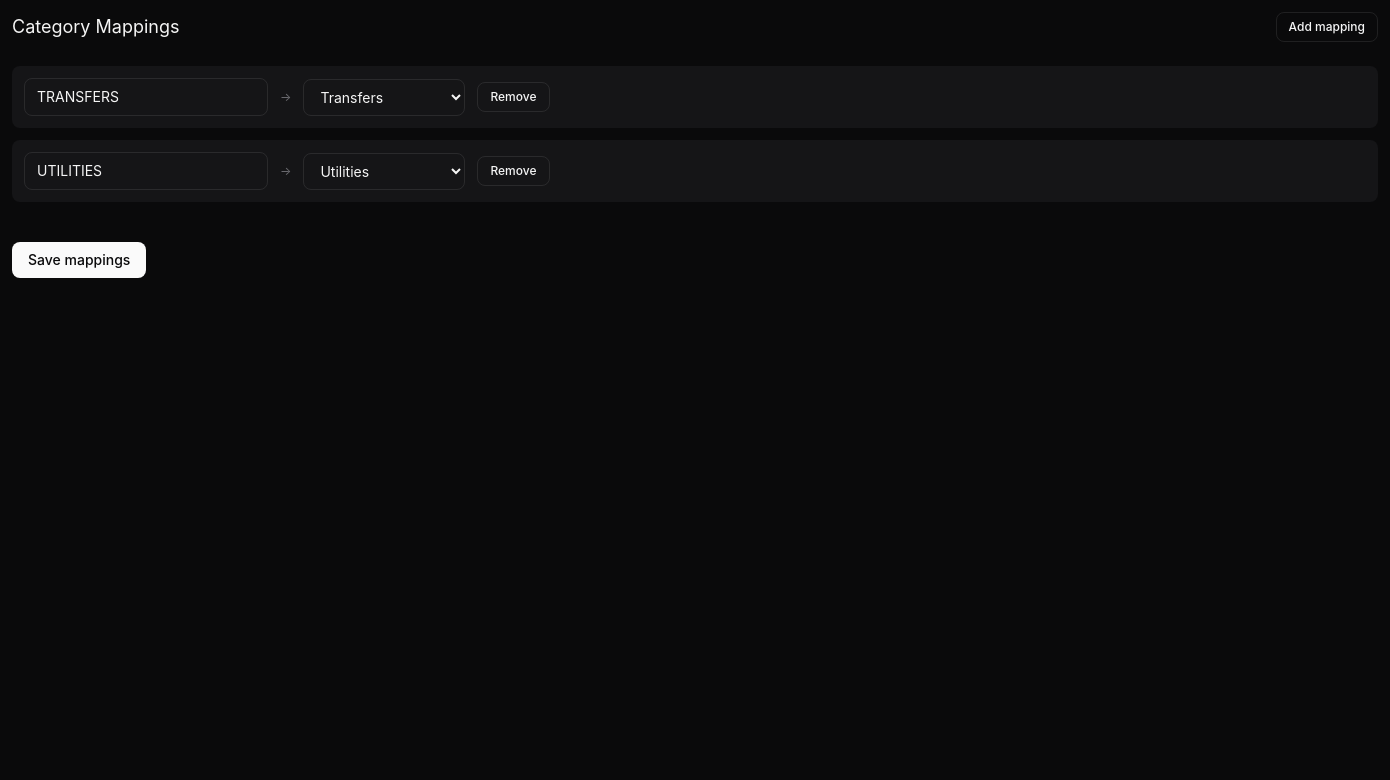
Test case: CategoryMappingEditor › saves mappings via PUT
The width and height of the screenshot is (1390, 780).
# Add a new mapping
Click the button "Add mapping": [1327, 27] box [1276, 12, 1378, 42]
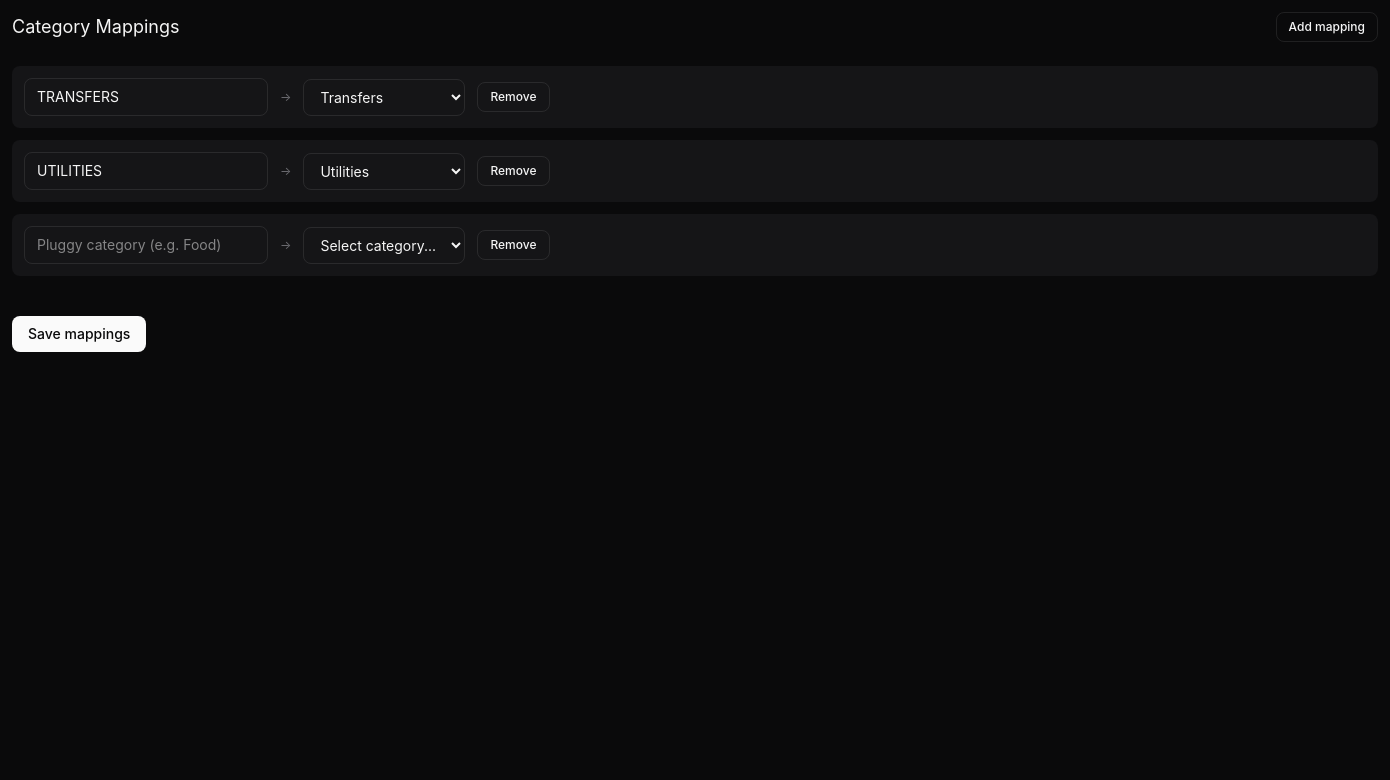
In the field labelled "Pluggy category (e.g. Food)": [146, 245] box [24, 226, 268, 264], type "Food"
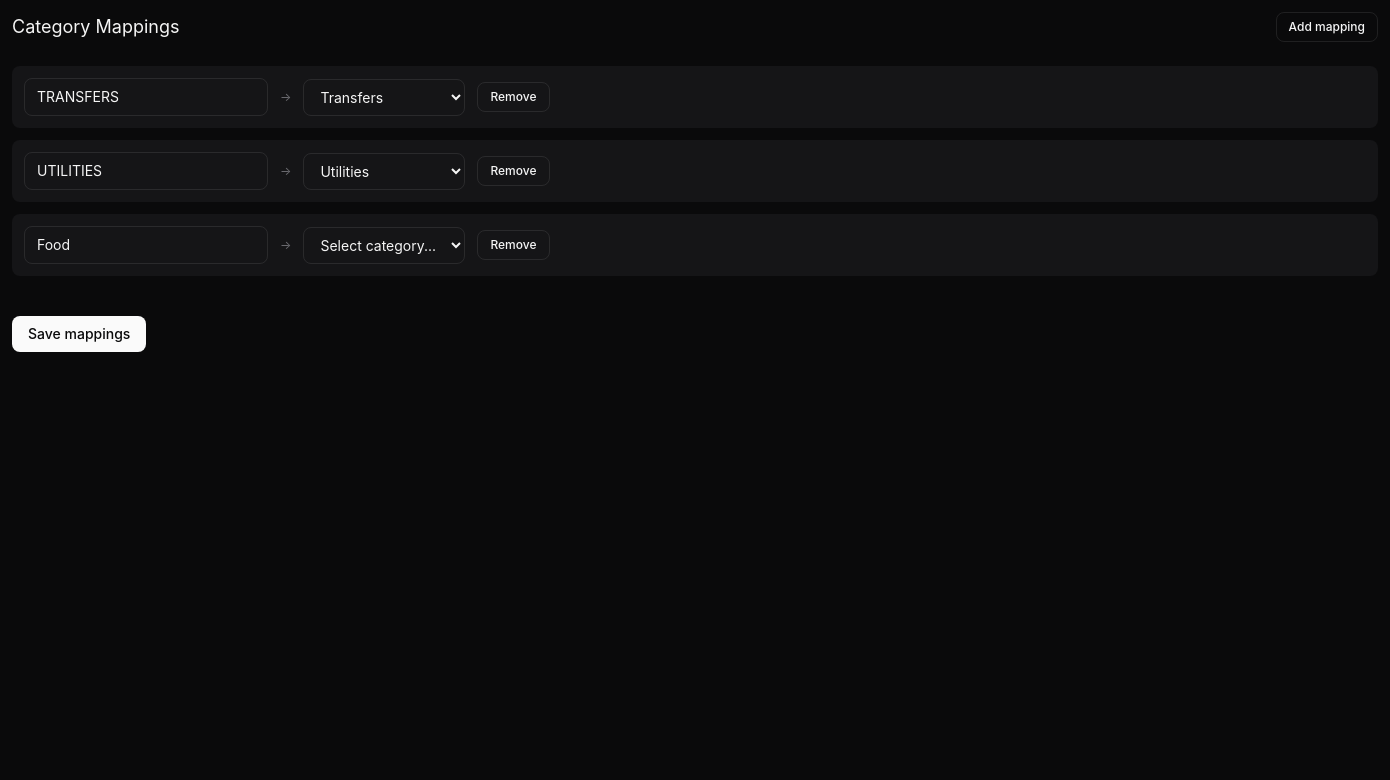
# Select a local category
Select "Groceries" in the 3rd dropdown named "Category": [384, 245] box [304, 226, 466, 264]
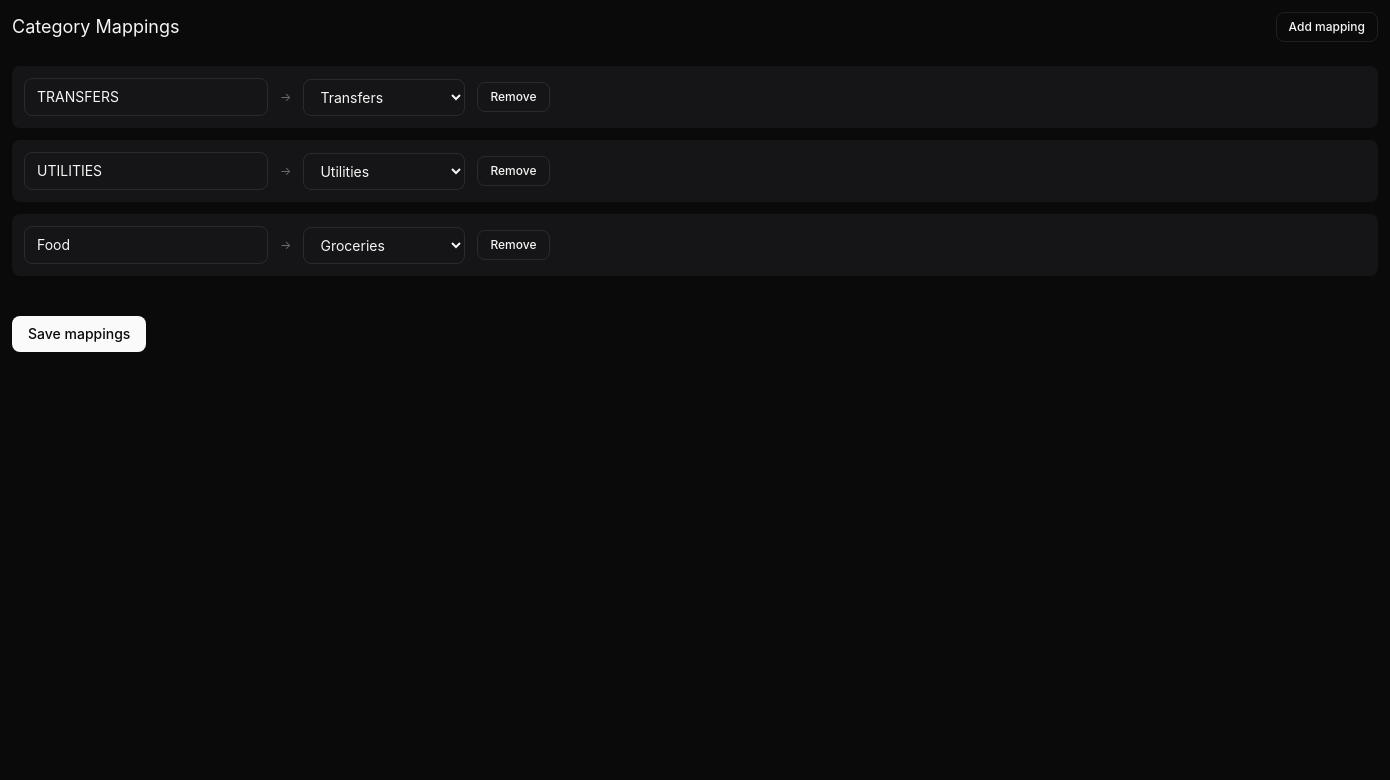
Click the button "Save mappings": [79, 334] box [12, 316, 146, 352]
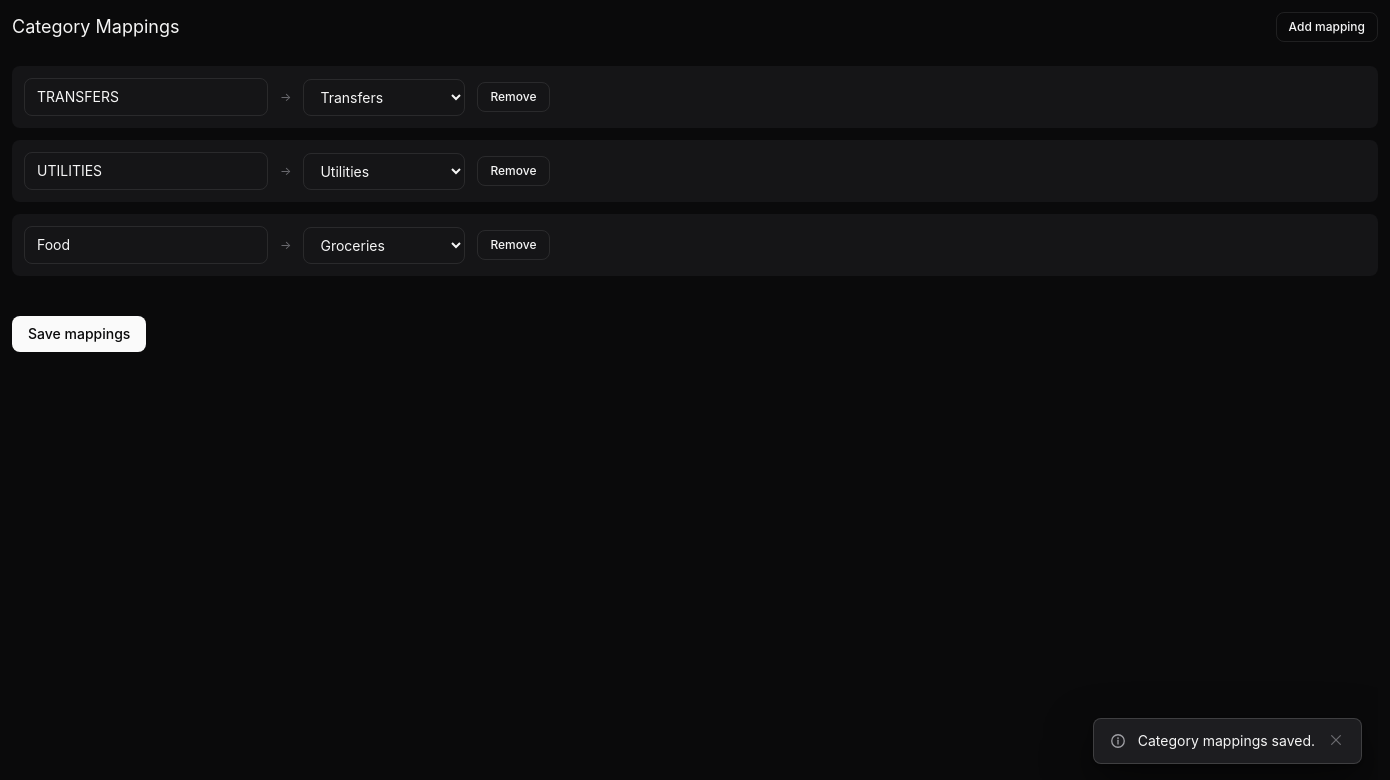
Result: the text "Category mappings saved." is shown at [1138, 731, 1315, 751]
